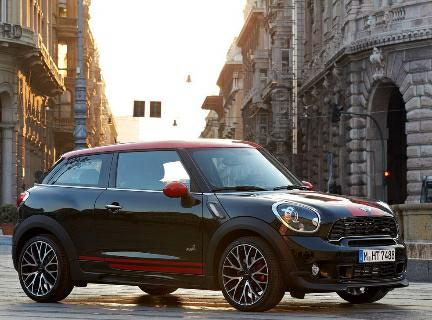MINI-JCWPACEMAN: (0, 134, 421, 319)
